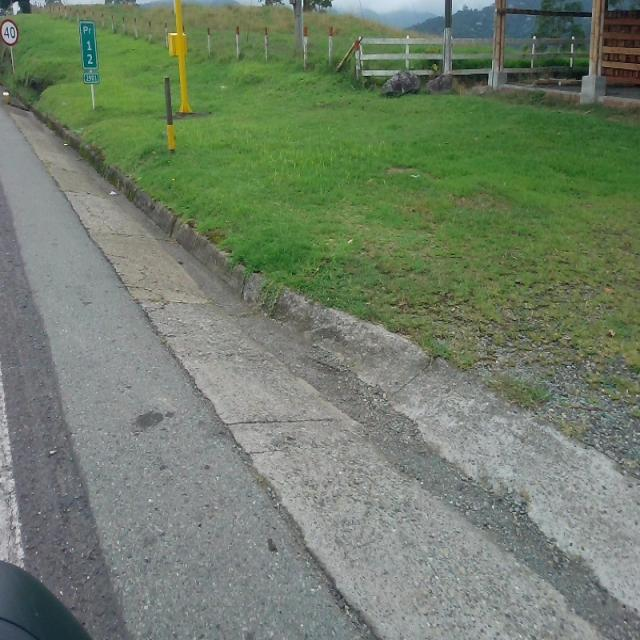DITCH: (1, 77, 638, 638), (2, 89, 638, 638)
